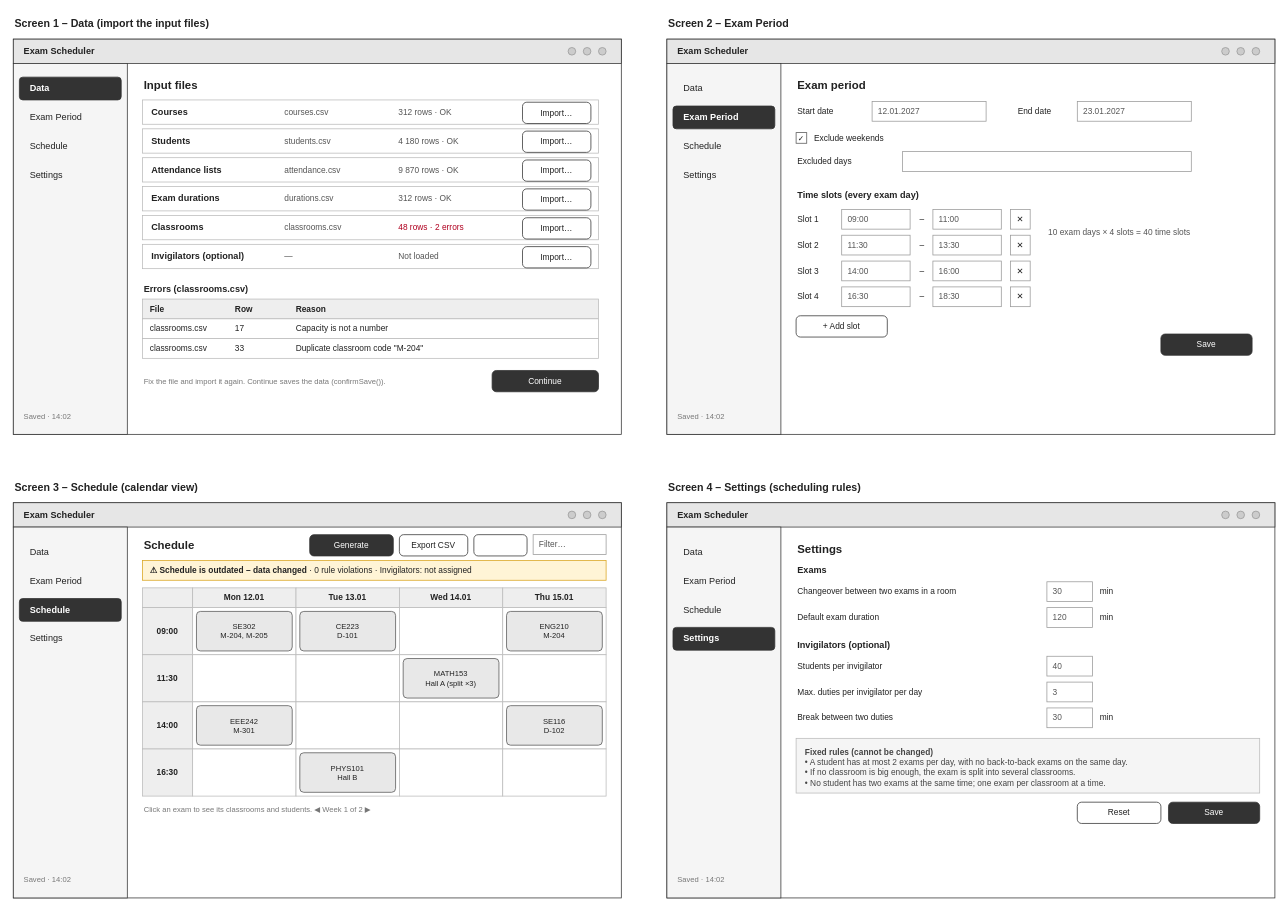
Some shapes in this 1288 by 911 pixel diagram are drawn without their labels. Here are the shapes that lost their labels. From the top down, the centre of each, then its label:
At point (1046, 161): "19.01.2027 (holiday) ✕".
At point (500, 545): "Print".
